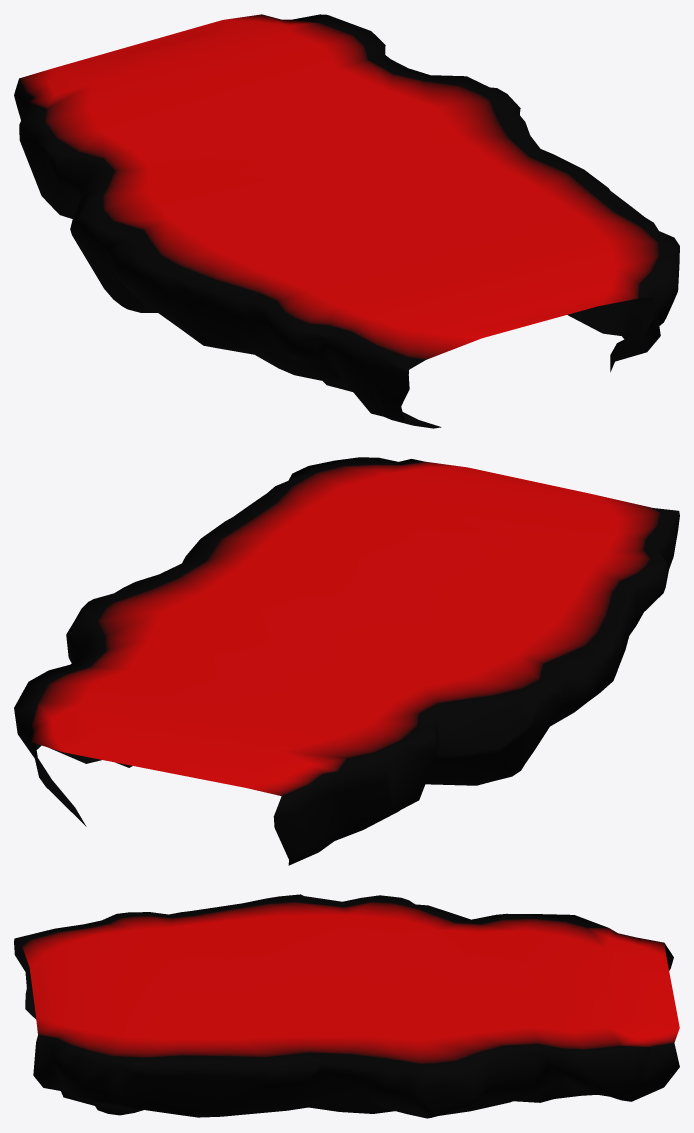
File: Shitou_hill_16.fbx
The picture shows the model from 3 angles, top to bottom: view 1: azimuth 30°, elevation 25°; view 2: azimuth 150°, elevation 25°; view 3: azimuth 270°, elevation 25°; orthographic projection. The views are drawn at different scales.
Visible parts, largest first — view 1: Shitou_hill_16_LOD0; view 2: Shitou_hill_16_LOD0; view 3: Shitou_hill_16_LOD0.
Boxes of the visible parts, left/top/right/bottom form: Shitou_hill_16_LOD0: left=14, top=14, right=679, bottom=428; Shitou_hill_16_LOD0: left=14, top=457, right=679, bottom=865; Shitou_hill_16_LOD0: left=14, top=894, right=679, bottom=1118.
Size of the model in its own units: 392 by 89.2 by 602.
